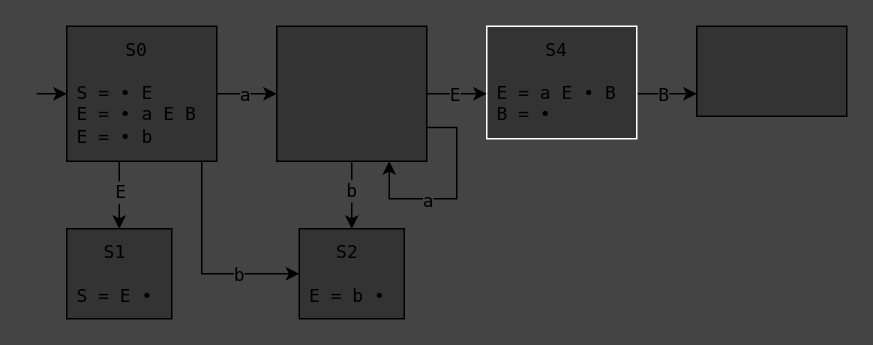
Some shapes in this 873 by 345 pixel diagram are drawn without their labels. Here are the shapes that lost their labels. From the top down, the box of each, then its label:
(695, 25, 847, 116): S5 E = a E B •
(275, 25, 427, 161): S3 E = a • E B E = • a E B E = • b
